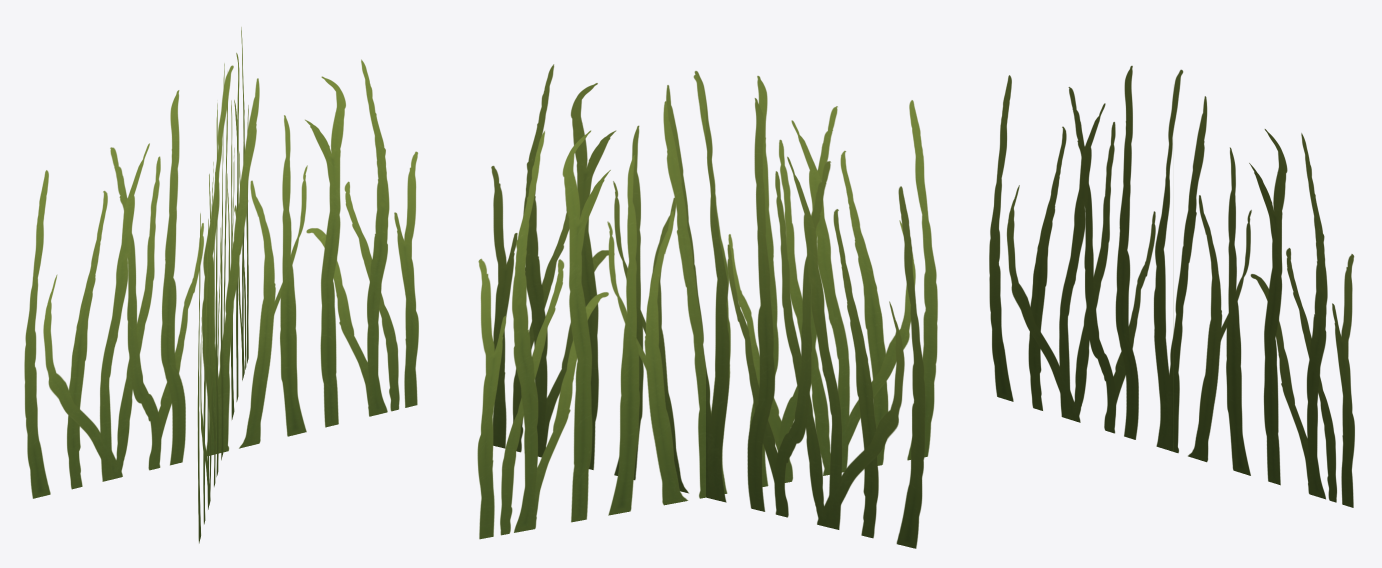
The model's file is grass.gltf.
3 views of the same model, side by side, from view 1: azimuth 30°, elevation 25°; view 2: azimuth 150°, elevation 25°; view 3: azimuth 270°, elevation 25° (orthographic). The views are drawn at different scales.
Visible parts, largest first — view 1: grass_2_0; view 2: grass_2_0; view 3: grass_2_0.
Part boxes in pixels (x1,y1,x2,y2): grass_2_0: (24, 27, 418, 543); grass_2_0: (477, 64, 937, 548); grass_2_0: (989, 65, 1354, 507).
Size of the model in its own units: 0.115 by 0.115 by 0.0925.
Materials: 1 (1 with a texture image).
